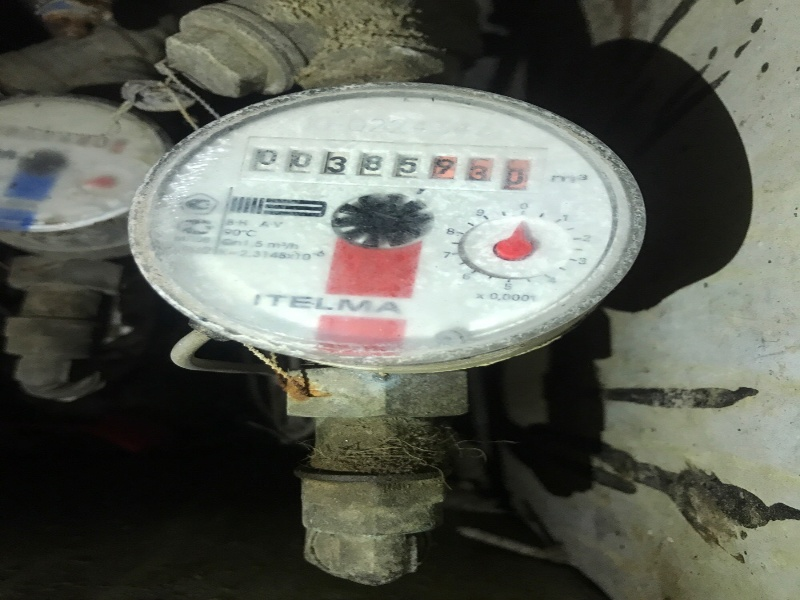meter: (245, 136, 542, 189)
